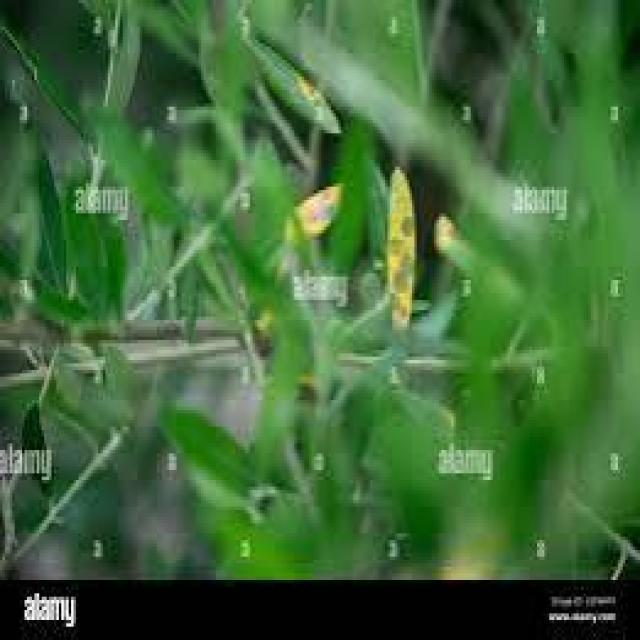OlivePeacockSpot: (242, 40, 338, 130), (388, 166, 414, 326)
